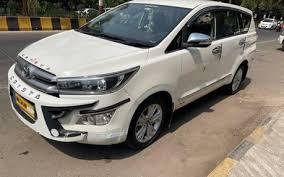Normal Automobiles: (8, 0, 256, 147), (258, 18, 276, 28)
